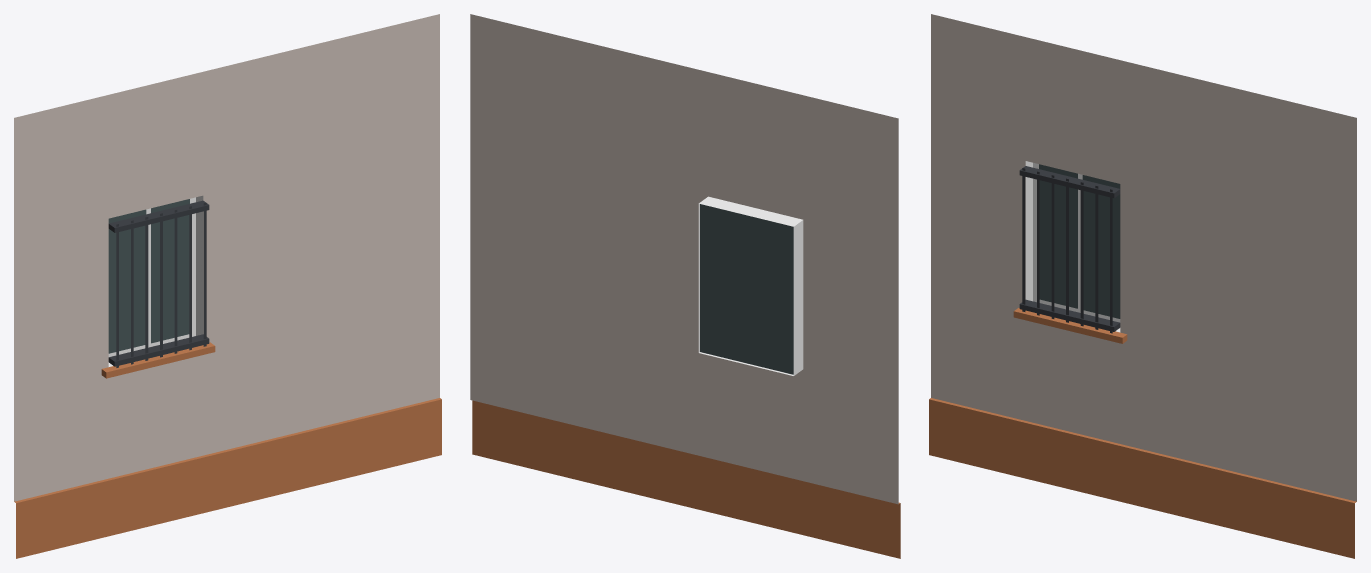
3 renders of one model, left to right at view 1: azimuth 30°, elevation 25°; view 2: azimuth 150°, elevation 25°; view 3: azimuth 330°, elevation 25°, orthographic.
Parts seen in each view (by area): view 1: a2000s2/200/base-w2; view 2: a2000s2/200/base-w2; view 3: a2000s2/200/base-w2.
Part boxes in pixels (x1=…): a2000s2/200/base-w2: x1=14, y1=14, x2=441, y2=558; a2000s2/200/base-w2: x1=470, y1=14, x2=900, y2=558; a2000s2/200/base-w2: x1=929, y1=14, x2=1356, y2=558.
Bounding box in the file's own units: 3.6 × 3.55 × 0.23.
